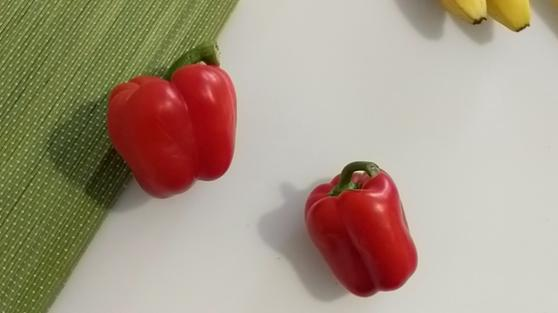pepper: (103, 40, 236, 194), (305, 162, 420, 295)
